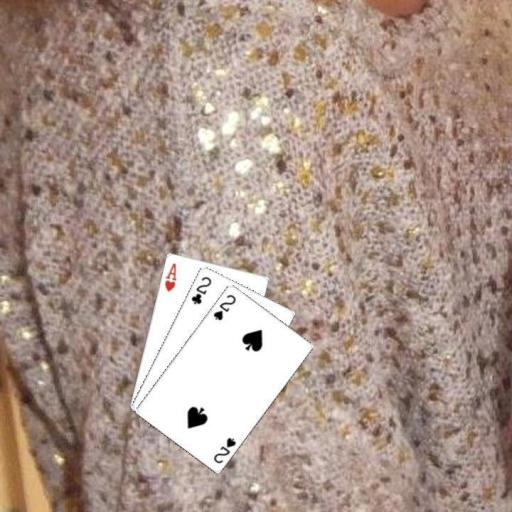card-corner: (210, 434, 238, 464), (210, 291, 237, 321), (188, 273, 212, 306), (161, 260, 178, 293)
